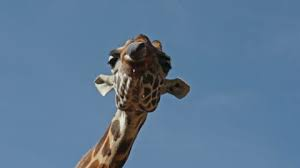Jirafa: (89, 28, 214, 144)
